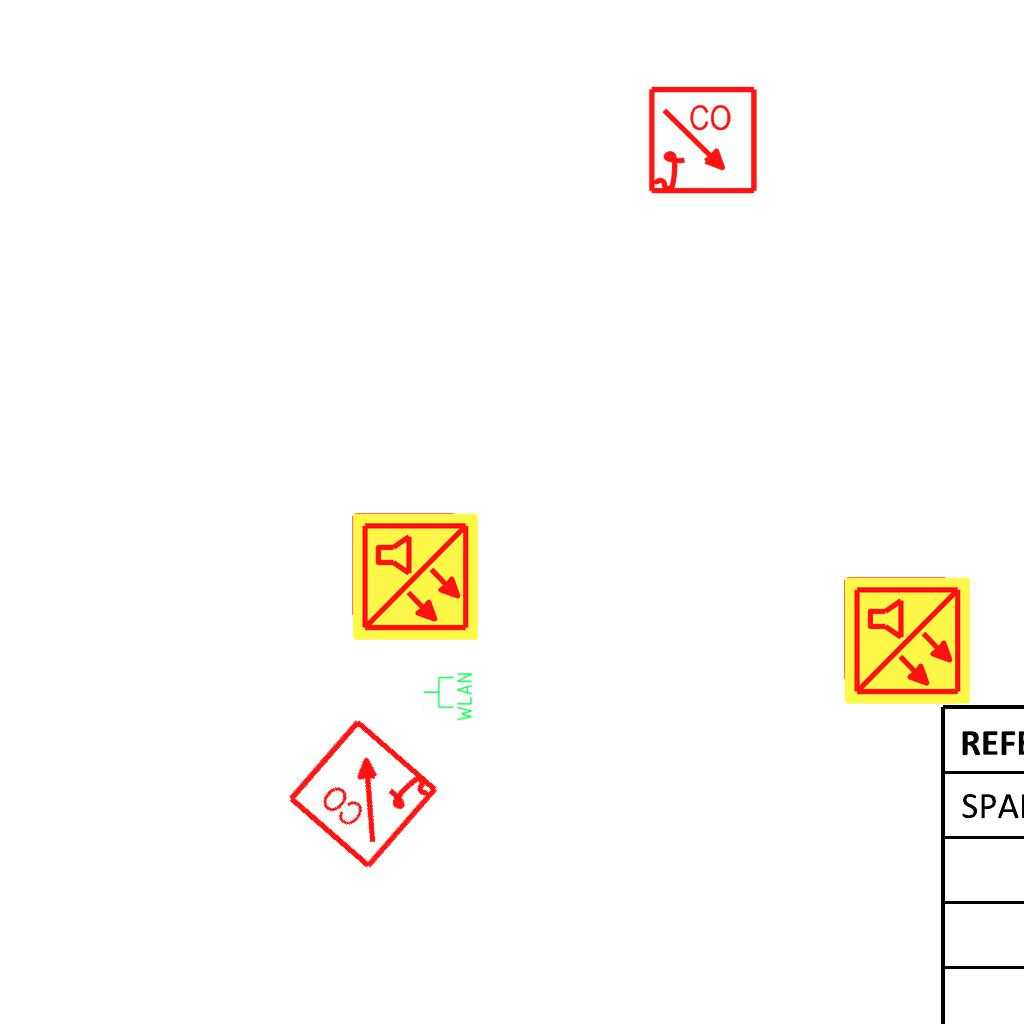OKW_Multisensormelder_(Kombination_optischer_Rauch-Kahlenmonoxid_Waerme-Melder): (841, 575, 973, 707), (349, 511, 481, 643)
ROA_Rauchmelder_optisch_mit_Signalgeber_(Sockelsirene): (283, 712, 444, 873), (647, 85, 760, 198)
WLAN: (422, 671, 474, 723)
